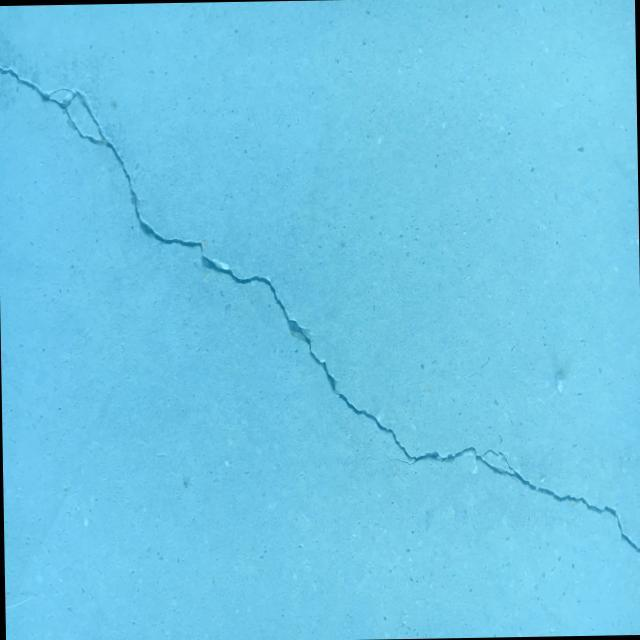crack: (0, 53, 640, 564)
